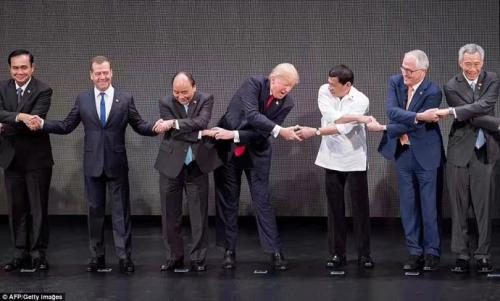no_mask: (398, 48, 431, 88), (270, 61, 300, 102), (457, 42, 487, 81), (170, 69, 198, 107), (5, 49, 35, 84), (326, 66, 356, 99), (85, 56, 113, 90)
